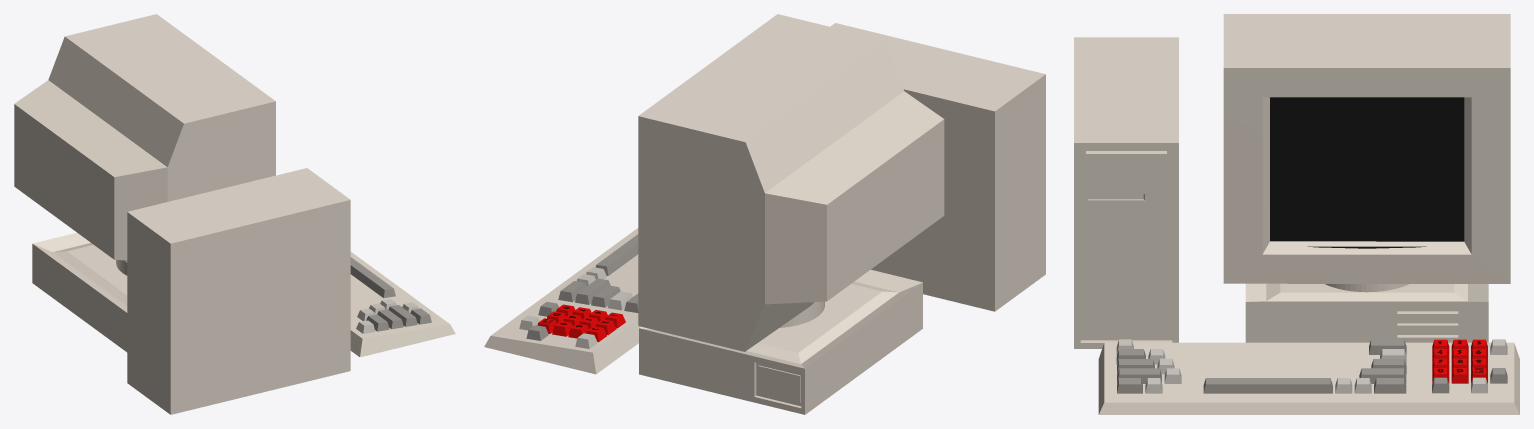
The model's file is monitor.glb.
3 views of the same model, side by side, from view 1: azimuth 30°, elevation 25°; view 2: azimuth 150°, elevation 25°; view 3: azimuth 270°, elevation 25° (orthographic). The views are drawn at different scales.
Visible parts, largest first — view 1: Cube.001, computerscreen, Cube, toprowkeys.008, space; view 2: computerscreen, Cube.001, Cube, toprowkeys.008, numpad, space; view 3: computerscreen, Cube.001, toprowkeys.008, Cube, numpad, space, toprowkeys.007, standcylinder, key.004, key.008, key.003.
Boxes of the visible parts, x1=… form: Cube.001: x1=127, y1=168, x2=350, y2=414; computerscreen: x1=14, y1=14, x2=275, y2=262; Cube: x1=32, y1=232, x2=127, y2=352; toprowkeys.008: x1=350, y1=252, x2=455, y2=357; space: x1=350, y1=257, x2=395, y2=298; computerscreen: x1=638, y1=14, x2=944, y2=351; Cube.001: x1=830, y1=23, x2=1045, y2=311; Cube: x1=639, y1=269, x2=922, y2=414; toprowkeys.008: x1=484, y1=228, x2=640, y2=374; numpad: x1=537, y1=304, x2=625, y2=341; space: x1=595, y1=234, x2=638, y2=275; computerscreen: x1=1223, y1=14, x2=1510, y2=283; Cube.001: x1=1074, y1=37, x2=1178, y2=348; toprowkeys.008: x1=1098, y1=342, x2=1519, y2=414; Cube: x1=1245, y1=283, x2=1488, y2=342; numpad: x1=1432, y1=339, x2=1487, y2=383; space: x1=1203, y1=378, x2=1332, y2=393; toprowkeys.007: x1=1374, y1=378, x2=1406, y2=393; standcylinder: x1=1325, y1=284, x2=1408, y2=292; key.004: x1=1359, y1=368, x2=1406, y2=383; key.008: x1=1117, y1=368, x2=1161, y2=383; key.003: x1=1369, y1=339, x2=1406, y2=354.
Size of the model in its own units: 4.42 by 3.29 by 4.8.
Materials: 5 (1 with a texture image).
